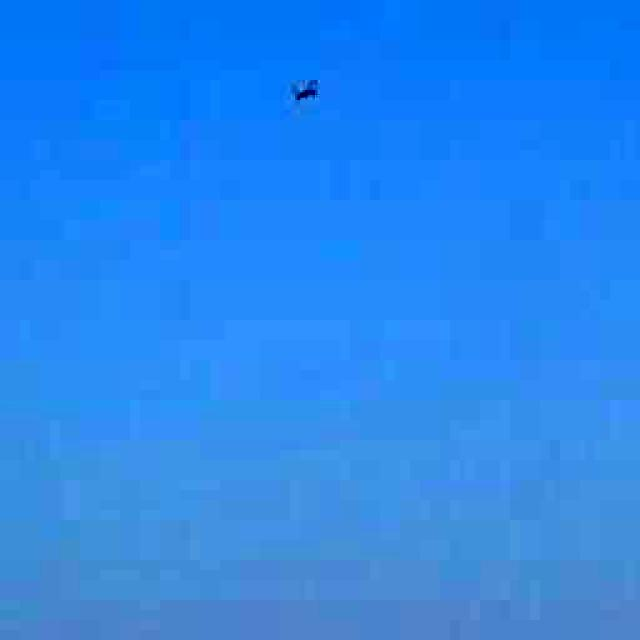bird: (241, 44, 364, 131)
